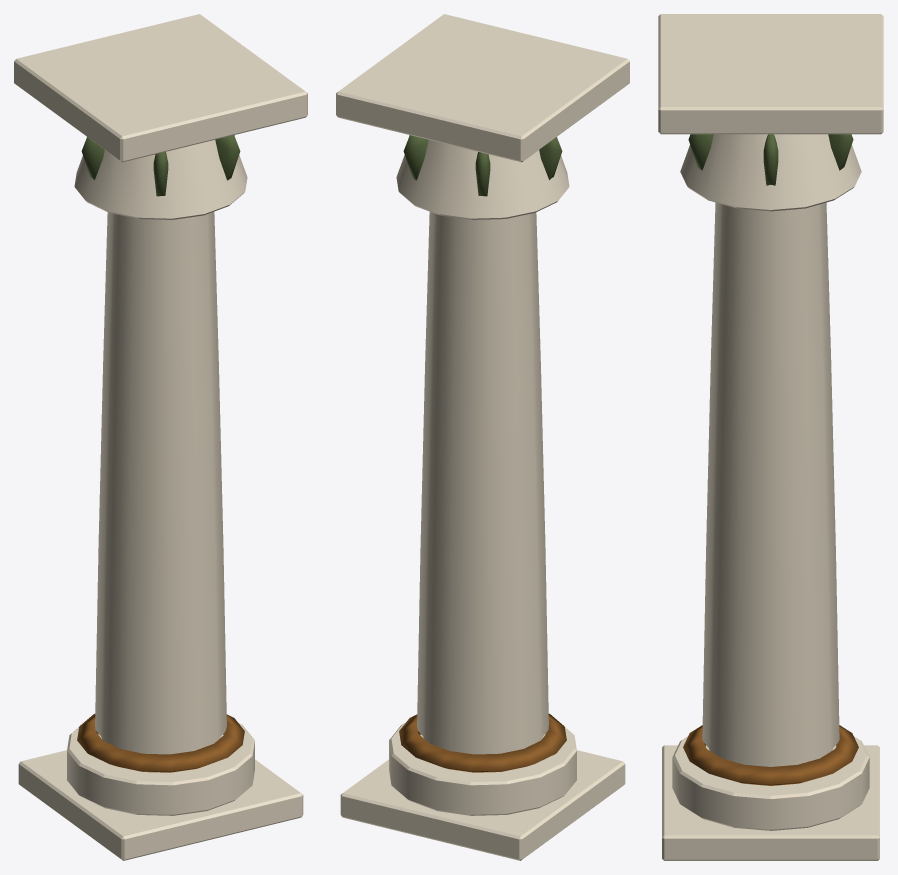
Rendered from column_corinthian_garden_LOD1.glb.
3 views of the same model, side by side, from view 1: azimuth 30°, elevation 25°; view 2: azimuth 150°, elevation 25°; view 3: azimuth 270°, elevation 25° (orthographic). The views are drawn at different scales.
Parts seen in each view (by area): view 1: column_corinthian_garden_LOD1; view 2: column_corinthian_garden_LOD1; view 3: column_corinthian_garden_LOD1.
Boxes of the visible parts, left/top/right/bottom form: column_corinthian_garden_LOD1: left=14, top=14, right=307, bottom=860; column_corinthian_garden_LOD1: left=336, top=14, right=629, bottom=860; column_corinthian_garden_LOD1: left=658, top=14, right=883, bottom=860.
Size of the model in its own units: 1.28 by 4.74 by 1.28.
